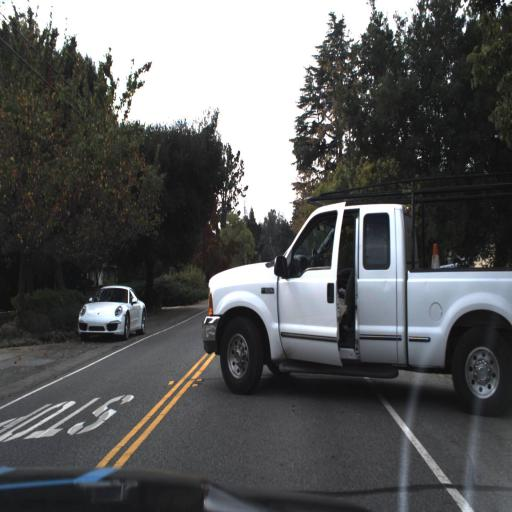car: (76, 282, 148, 343)
truck: (191, 202, 511, 404)
